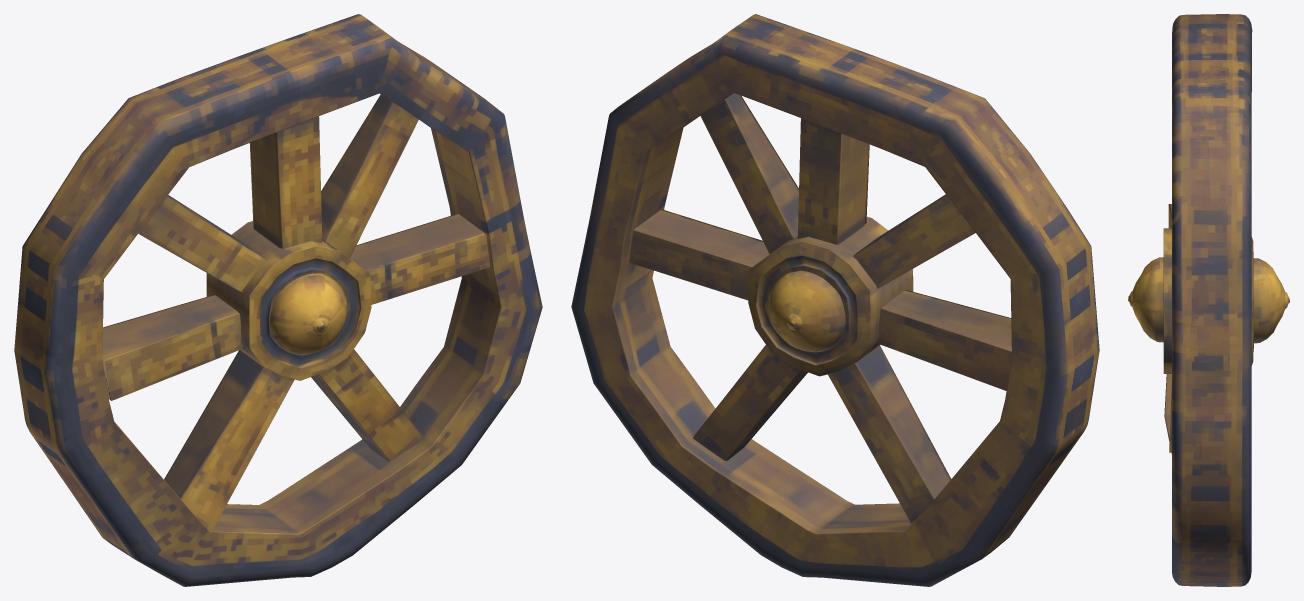
Rendered from tripo_convert_10b05feb-c4c5-43c5-aaed-72dbd0853d33.fbx.
3 renders of one model, left to right at view 1: azimuth 30°, elevation 25°; view 2: azimuth 150°, elevation 25°; view 3: azimuth 270°, elevation 25°, orthographic.
Visible parts, largest first — view 1: tripo_node_10b05feb; view 2: tripo_node_10b05feb; view 3: tripo_node_10b05feb.
Part boxes in pixels (x1=…): tripo_node_10b05feb: x1=14, y1=14, x2=542, y2=586; tripo_node_10b05feb: x1=571, y1=14, x2=1099, y2=586; tripo_node_10b05feb: x1=1128, y1=14, x2=1289, y2=586.
Bounding box in the file's own units: 0.9995 × 0.9995 × 0.2827.
1 material, 1 textured.
